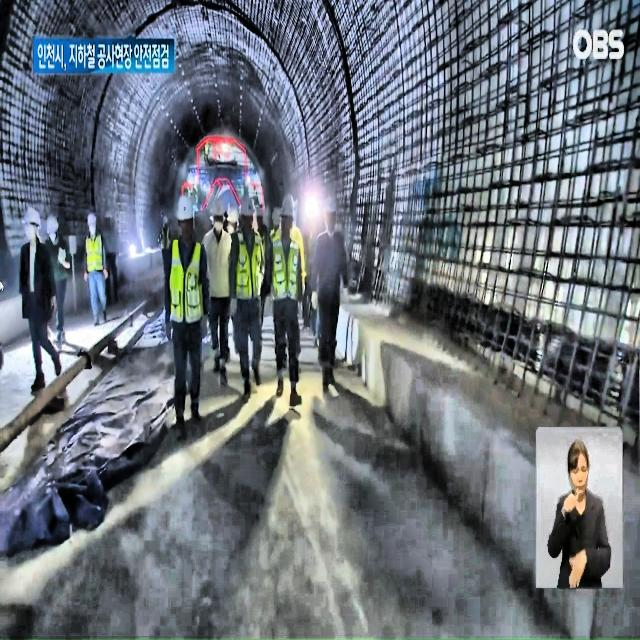safety_helmet: (279, 194, 295, 223), (22, 208, 40, 229), (175, 199, 193, 220), (239, 196, 255, 217), (210, 196, 225, 218), (324, 196, 338, 217), (47, 215, 58, 238), (85, 212, 97, 229)
safety_jacket: (167, 243, 204, 319), (235, 230, 262, 303), (271, 240, 299, 302), (82, 234, 104, 275)
